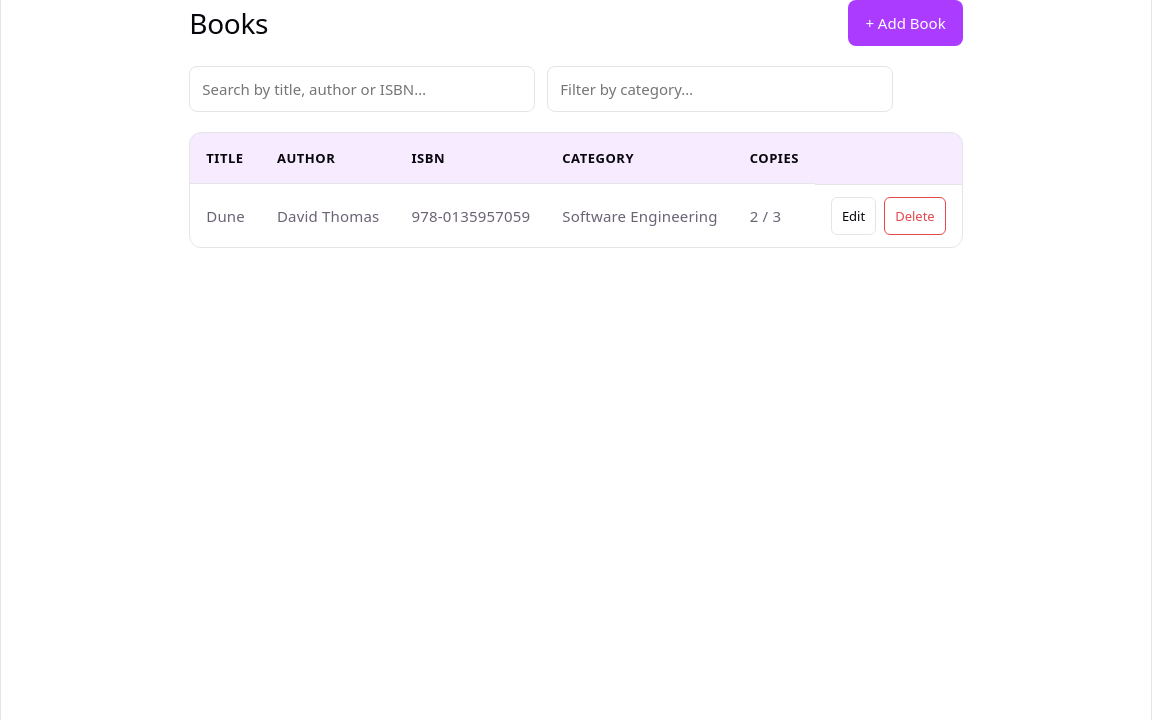
BooksPage › deletes a book after confirmation and refreshes the list
Expected: the text "Dune" is shown, x1=190 y1=184 x2=261 y2=247
Click the button "Delete". click: point(915, 216)
box: x1=884 y1=197 x2=946 y2=235
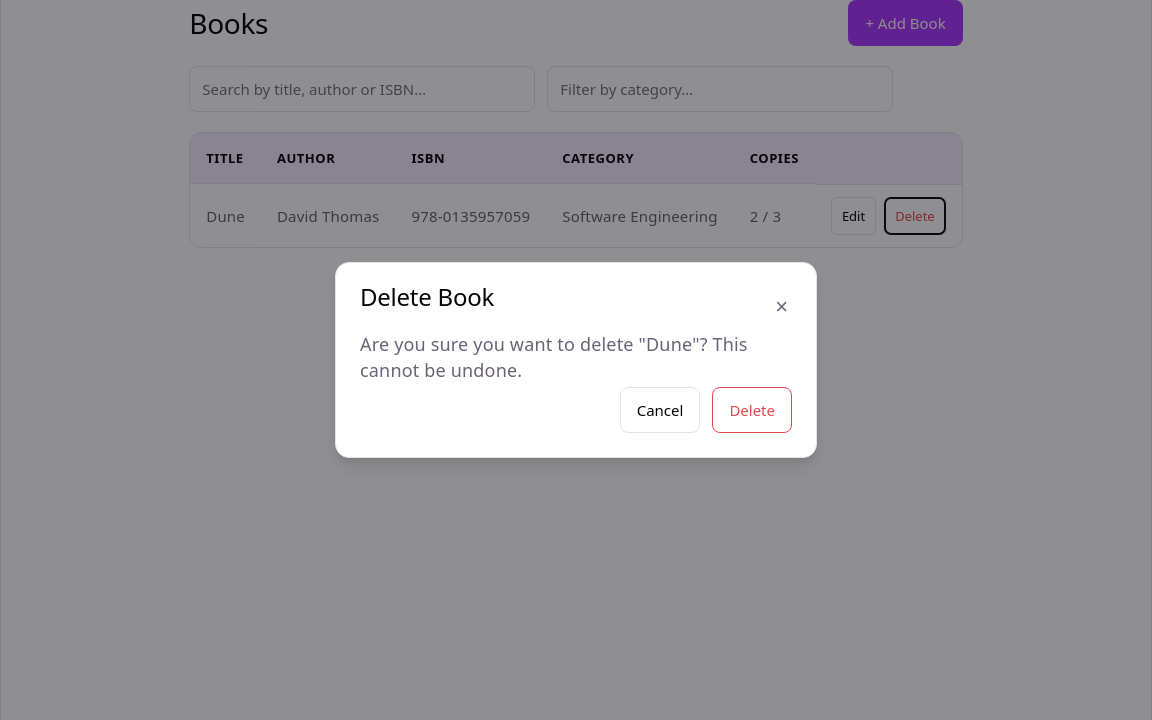
Expected: the text "Are you sure you want to delete \"Dune\"" is shown, x1=360 y1=332 x2=748 y2=382
Click the button "Delete". click: point(752, 410)
box: x1=712 y1=387 x2=792 y2=433
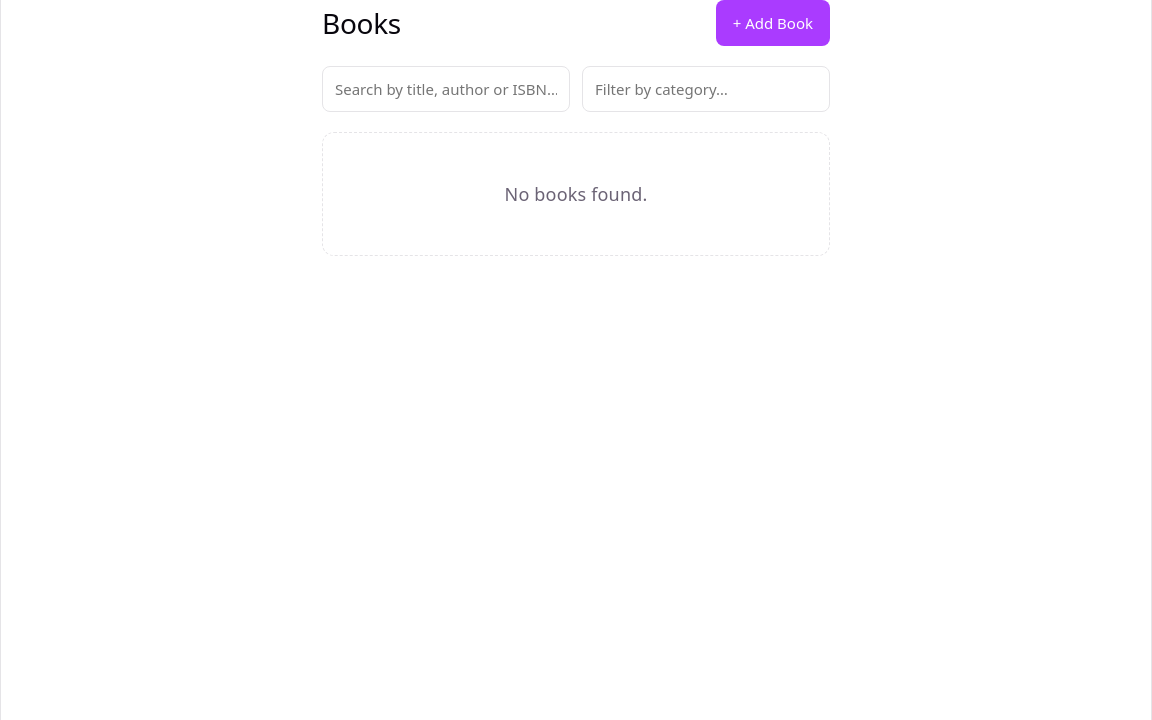
Expected: the heading "Delete Book" is gone
Expected: the text "No books found." is shown, x1=322 y1=132 x2=830 y2=256
